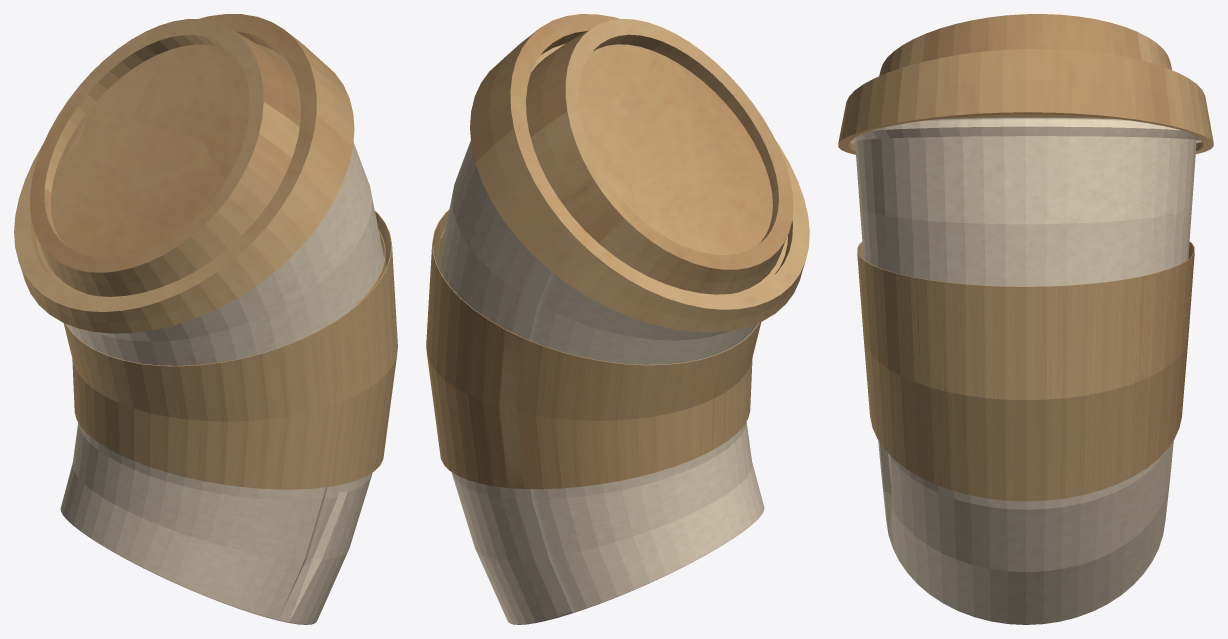
Rendered from bend_high_0.obj.
The picture shows the model from 3 angles, left to right: view 1: azimuth 30°, elevation 25°; view 2: azimuth 150°, elevation 25°; view 3: azimuth 270°, elevation 25°; orthographic projection.
Visible parts, largest first — view 1: model; view 2: model; view 3: model.
Boxes of the visible parts, <box> form: model: <box>14,14,397,624</box>; model: <box>426,14,809,624</box>; model: <box>838,14,1213,624</box>.
Bounding box in the file's own units: 0.0736 × 0.1228 × 0.072.
Materials: 1 (1 with a texture image).
